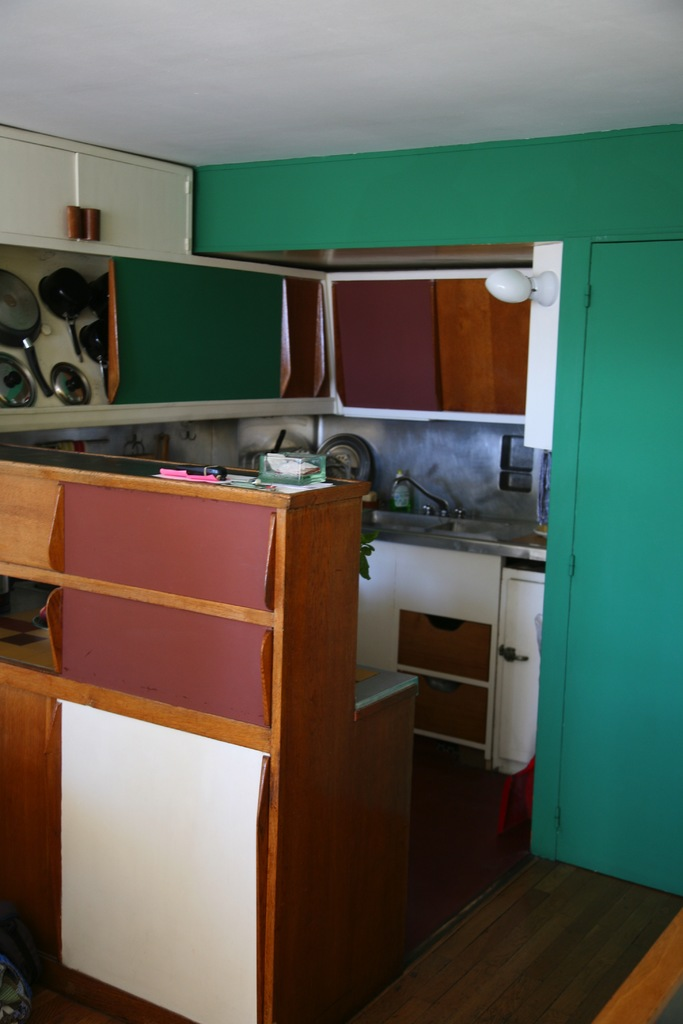Cabinetry: (40, 513, 367, 1024), (0, 252, 329, 424), (366, 508, 548, 804), (322, 260, 555, 444), (0, 116, 192, 250)
